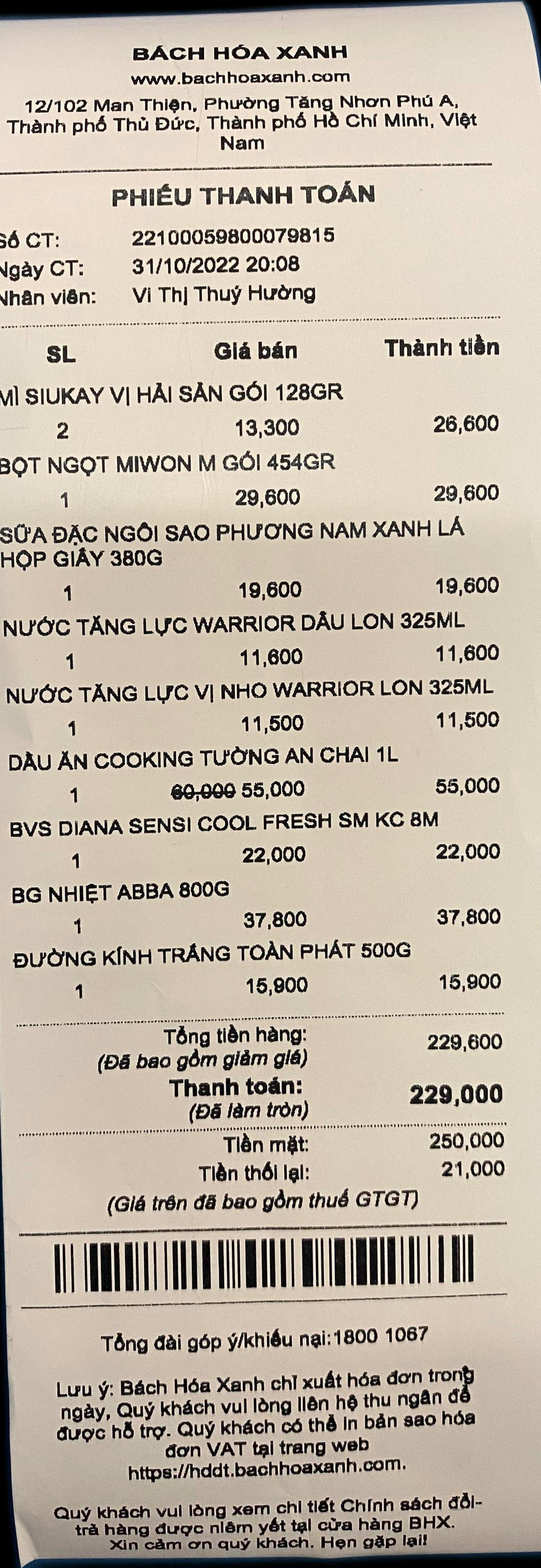Date: (119, 252, 244, 285)
Store_Name: (72, 27, 421, 76)
Total_Amount: (86, 1013, 531, 1056)
